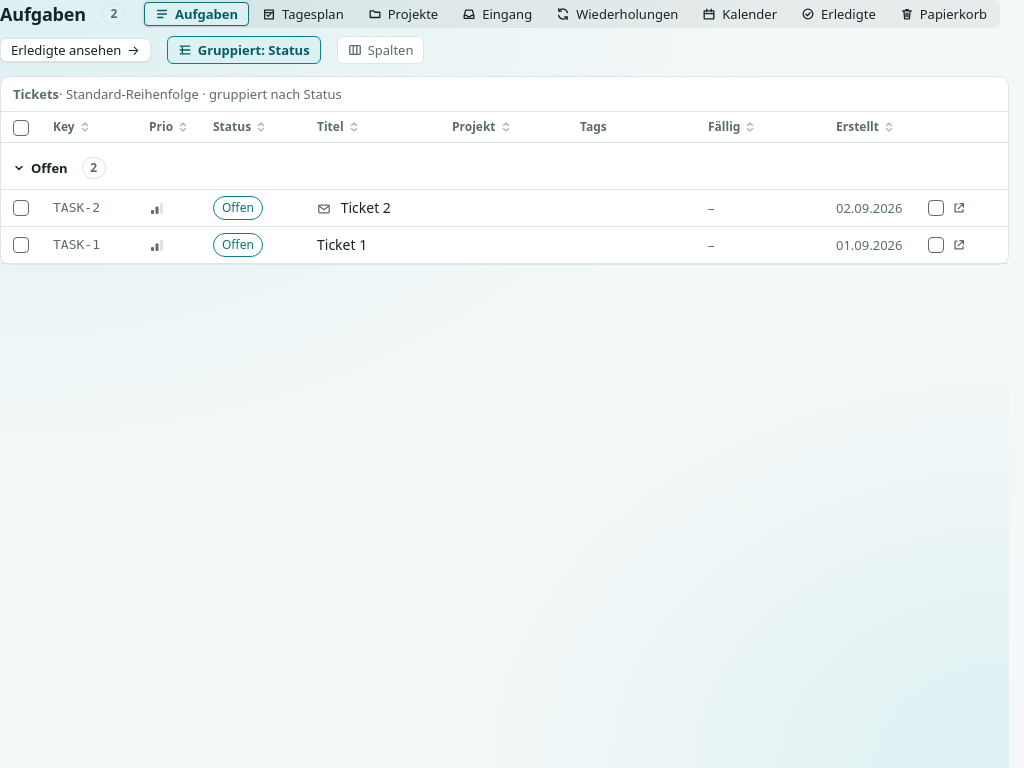
menu "Spalten" (ADR-0030) › changes the width of the title from the keyboard, the way of its grip (Nachtrag 3)
The width and height of the screenshot is (1024, 768).
Click the button "Spalten" at coordinates (380, 50), box [337, 36, 424, 64]
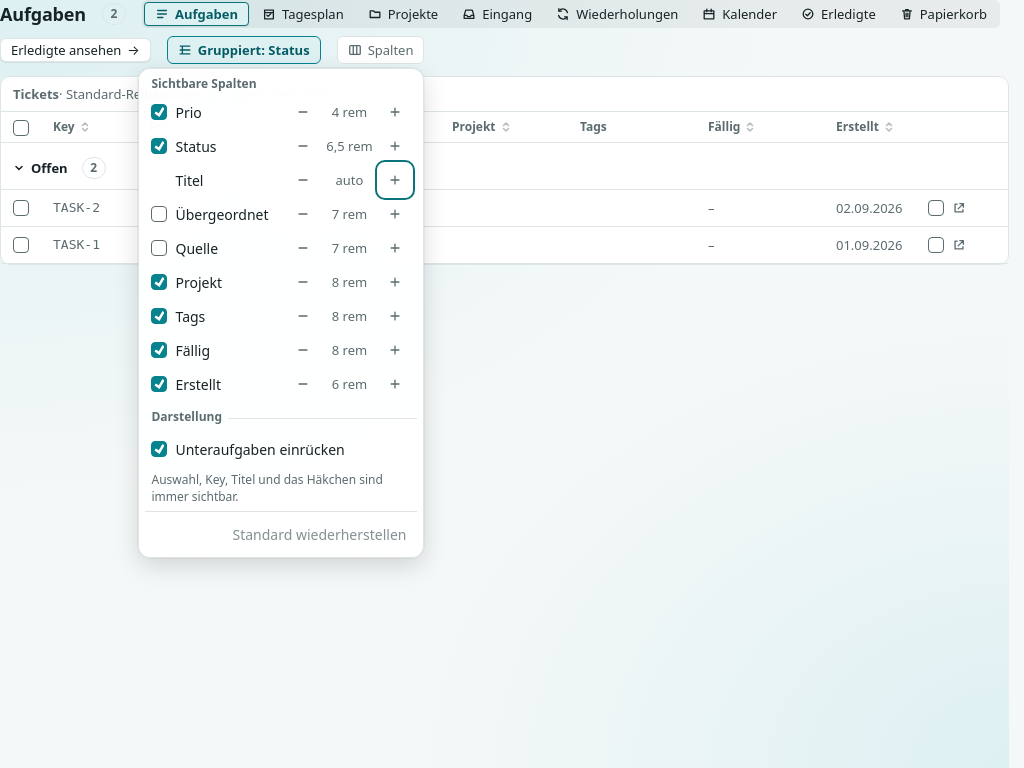
Expected: the element named "Spalte Titel breiter" shows "Titel", [176, 170, 204, 190]
Expected: the text with class "width" reads "auto", [336, 171, 363, 189]
Click the button named "Spalte Titel breiter" at coordinates (396, 180), box [380, 164, 412, 196]
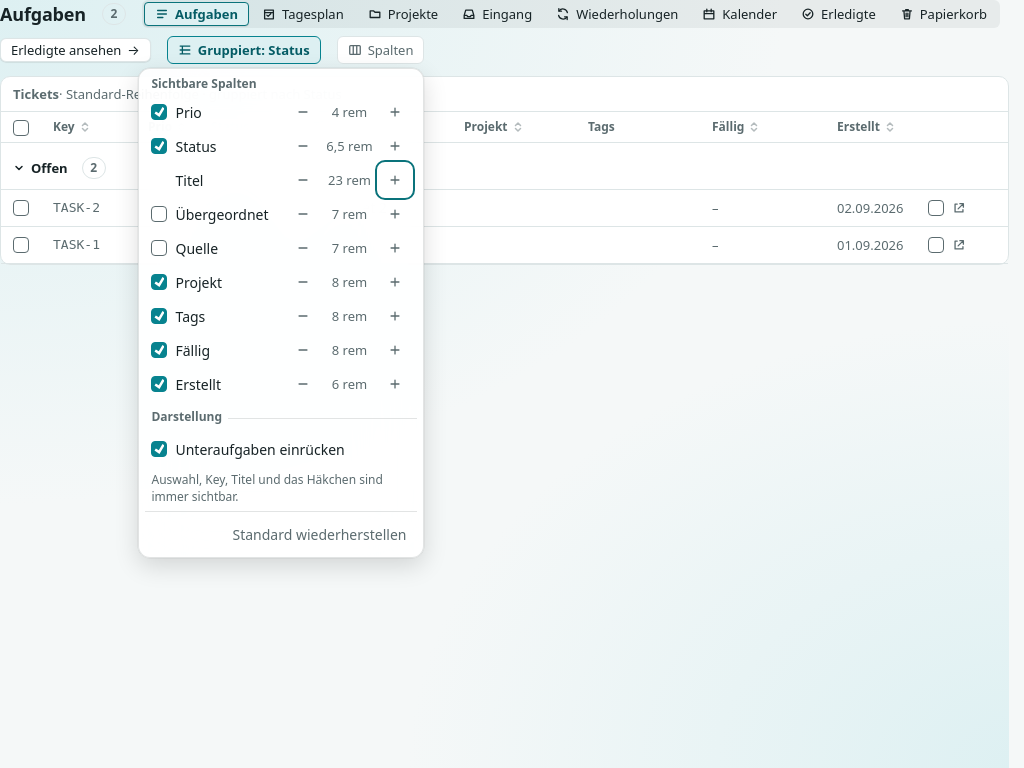
Expected: the text with class "width" reads "23 rem", [328, 171, 371, 189]
Click the button named "Spalte Titel schmaler" at coordinates (304, 180), box [288, 164, 320, 196]
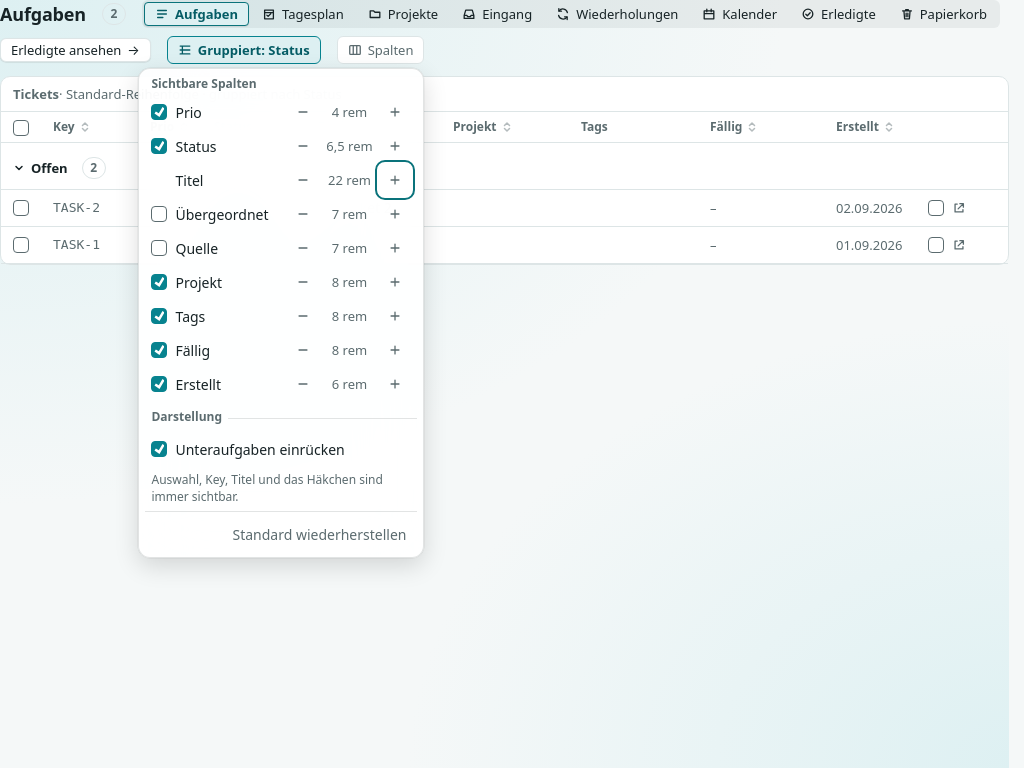
Click the button named "Spalte Titel schmaler" at coordinates (304, 180), box [288, 164, 320, 196]
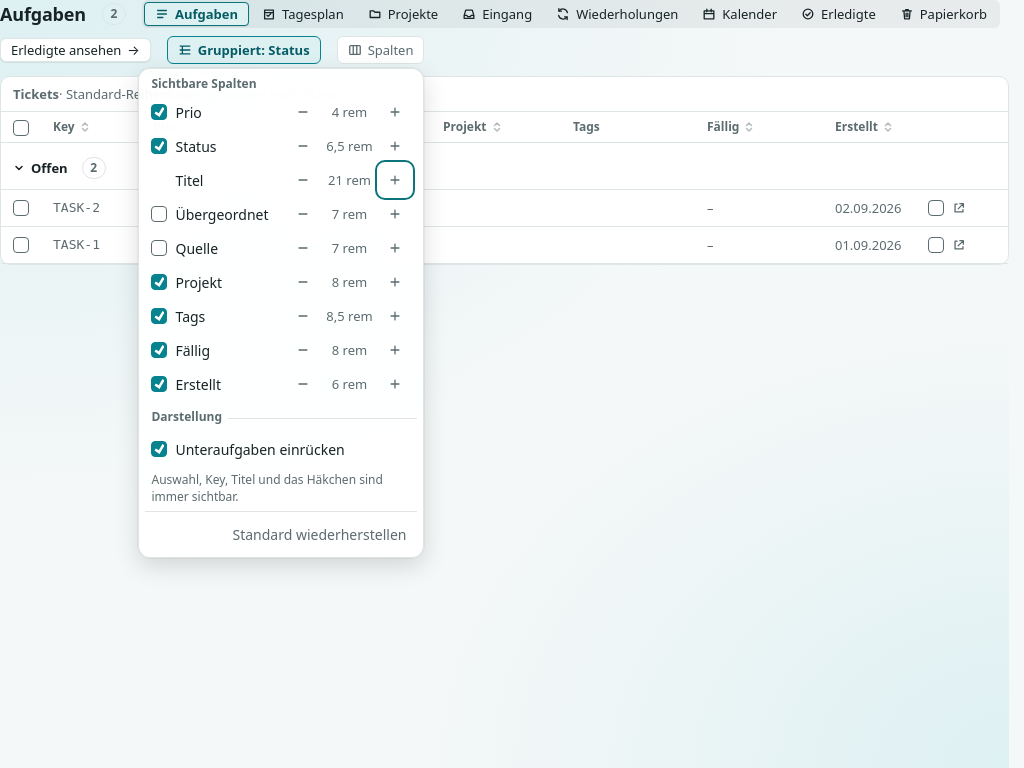
Click the button "Standard wiederherstellen" at coordinates (320, 534), box [222, 518, 418, 551]
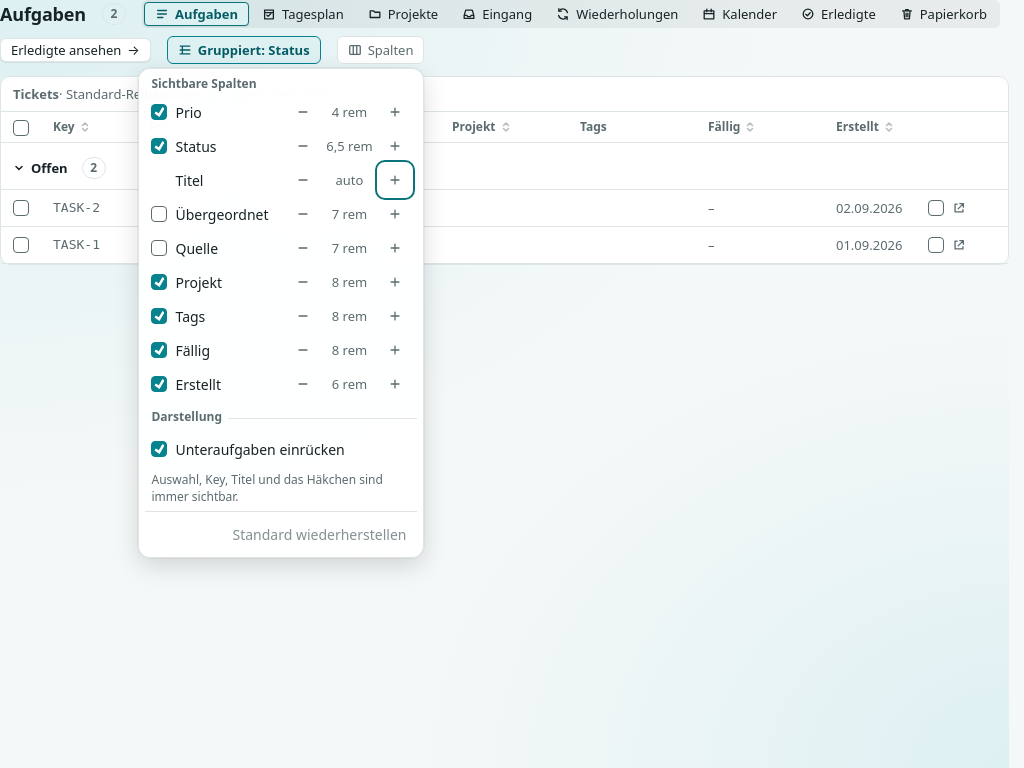
Expected: the text with class "width" reads "auto", [336, 171, 363, 189]
